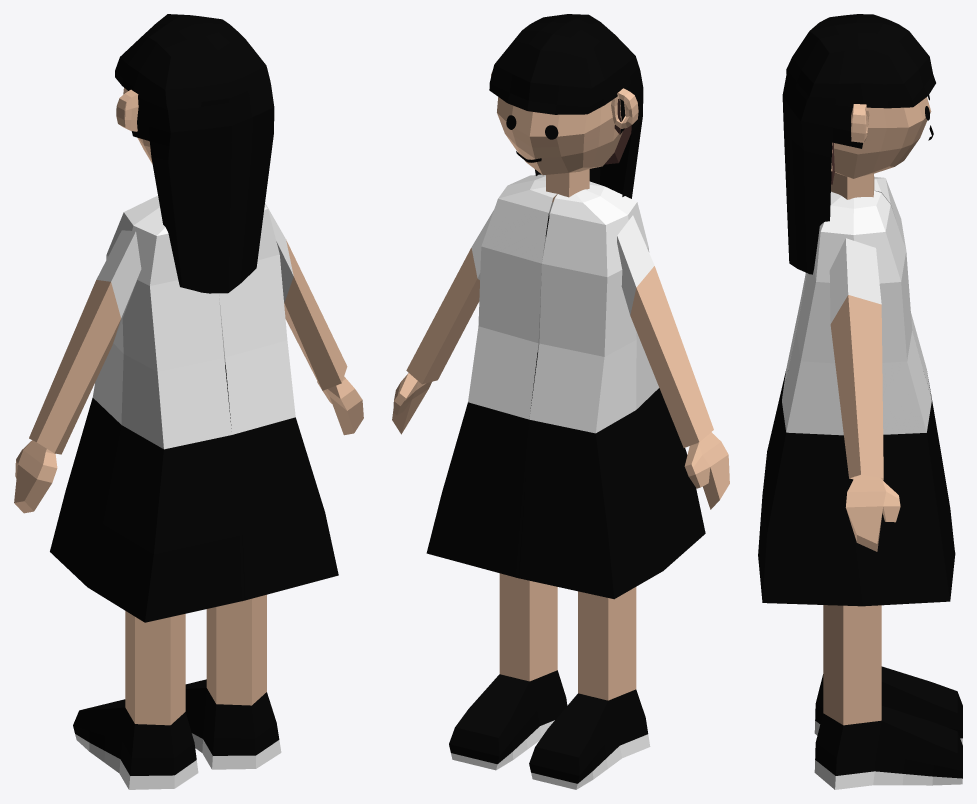
Rendered from student01.fbx.
The picture shows the model from 3 angles, left to right: view 1: azimuth 30°, elevation 25°; view 2: azimuth 150°, elevation 25°; view 3: azimuth 270°, elevation 25°; orthographic projection. The views are drawn at different scales.
Visible parts, largest first — view 1: stu01_body, stu01_hair, stu01_leg, stu01_arm, stu01_ear; view 2: stu01_body, stu01_leg, stu01_arm, stu01_hair, stu01_head, stu01_neck, stu01_ear; view 3: stu01_body, stu01_leg, stu01_hair, stu01_arm, stu01_head, stu01_neck, stu01_ear.
Part boxes in pixels (x1,y1,x2,y2): stu01_body: [50, 195, 338, 622]; stu01_hair: [115, 14, 274, 293]; stu01_leg: [73, 594, 281, 789]; stu01_arm: [14, 203, 363, 513]; stu01_ear: [116, 89, 138, 131]; stu01_body: [426, 174, 705, 599]; stu01_leg: [449, 573, 650, 789]; stu01_arm: [392, 210, 729, 509]; stu01_hair: [489, 14, 643, 236]; stu01_head: [497, 97, 631, 175]; stu01_neck: [546, 169, 589, 202]; stu01_ear: [491, 71, 638, 128]; stu01_body: [758, 177, 955, 606]; stu01_leg: [814, 605, 962, 789]; stu01_hair: [782, 14, 935, 274]; stu01_arm: [829, 238, 900, 551]; stu01_head: [831, 97, 931, 184]; stu01_neck: [831, 157, 874, 199]; stu01_ear: [851, 104, 869, 142].
Size of the model in its own units: 174 by 91.98 by 362.
